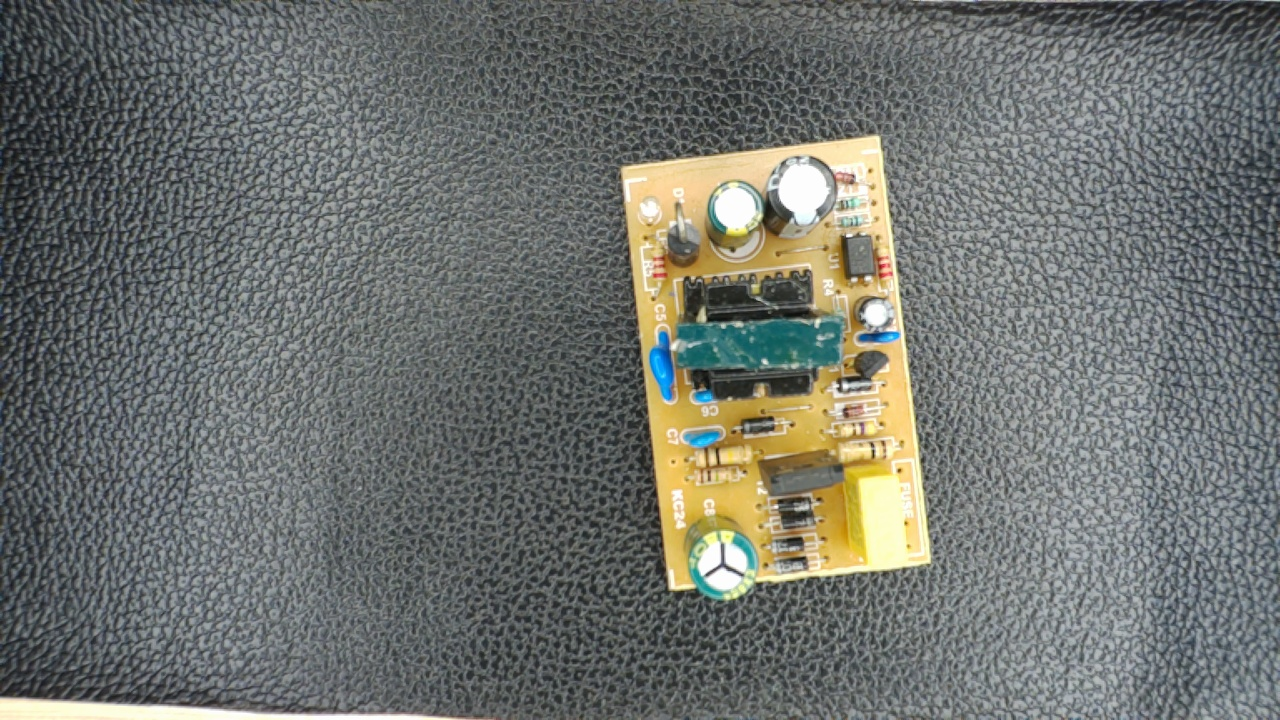hv_capacitor: (686, 516, 759, 602)
mov: (648, 330, 678, 405)
optocoupler: (839, 228, 881, 287)
